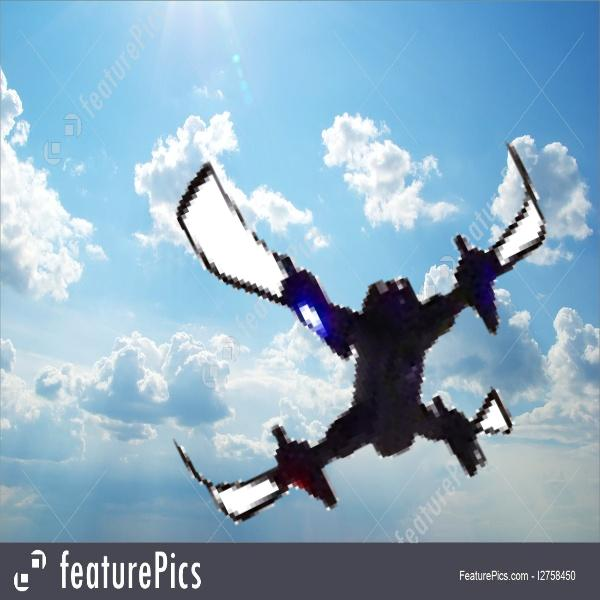drone: (119, 66, 586, 533)
